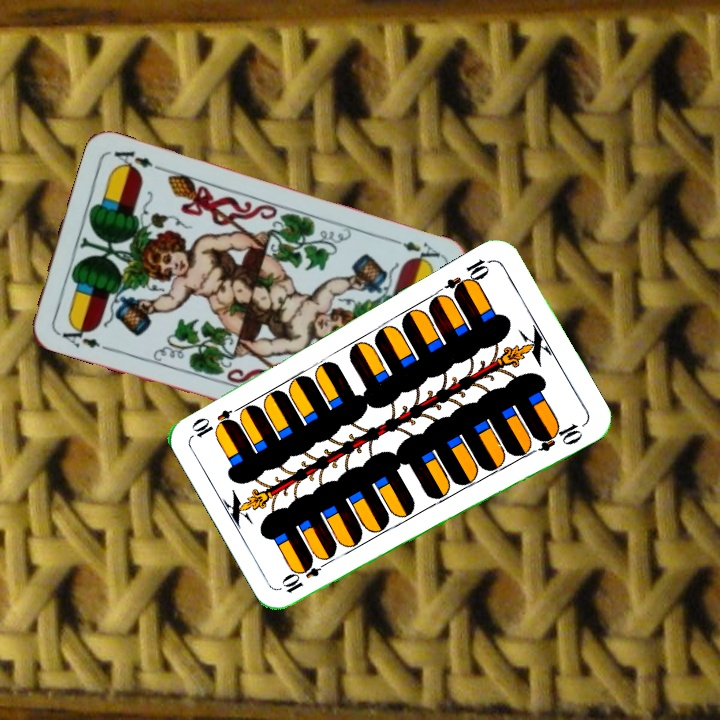E10: (441, 254, 495, 299), (278, 554, 333, 596)
EA: (52, 319, 110, 353), (386, 234, 443, 267)
